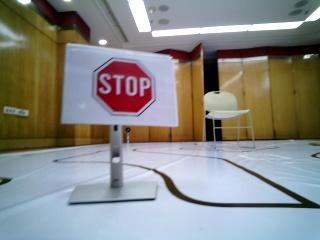stop: (82, 49, 170, 124)
